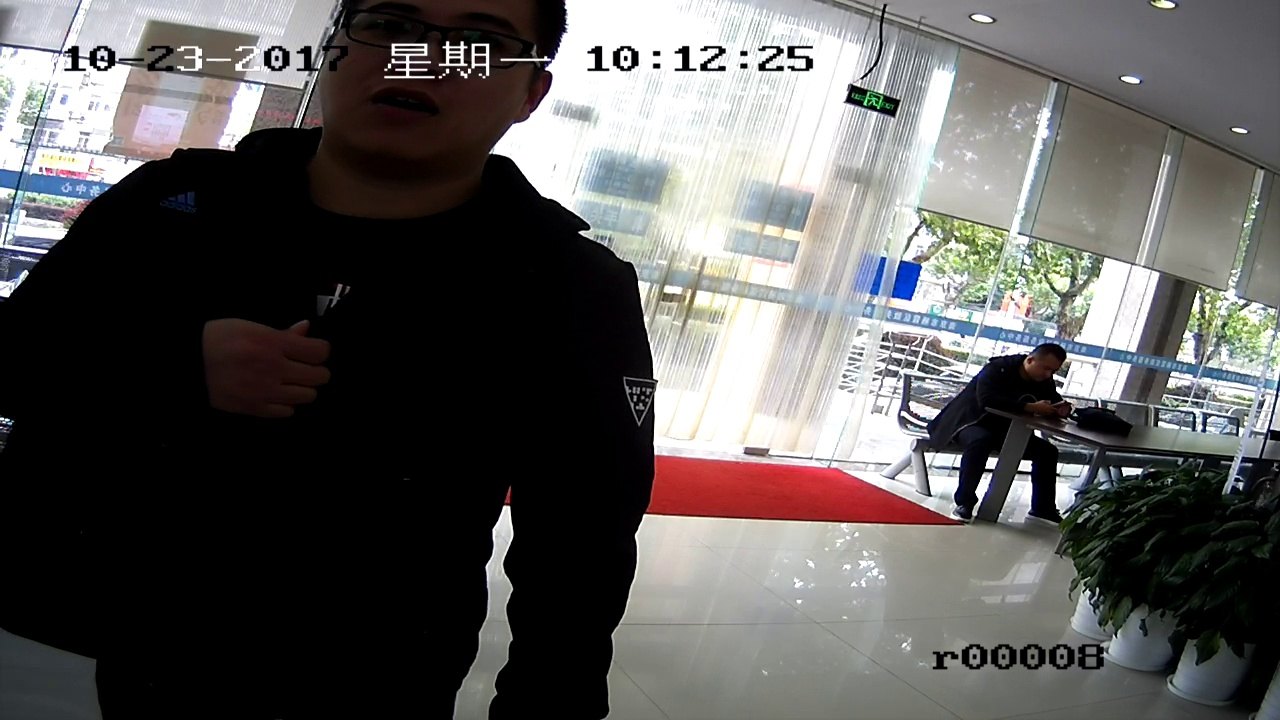person: (97, 1, 576, 600), (939, 331, 1068, 518)
pot: (1077, 462, 1199, 671), (1201, 504, 1262, 711)
